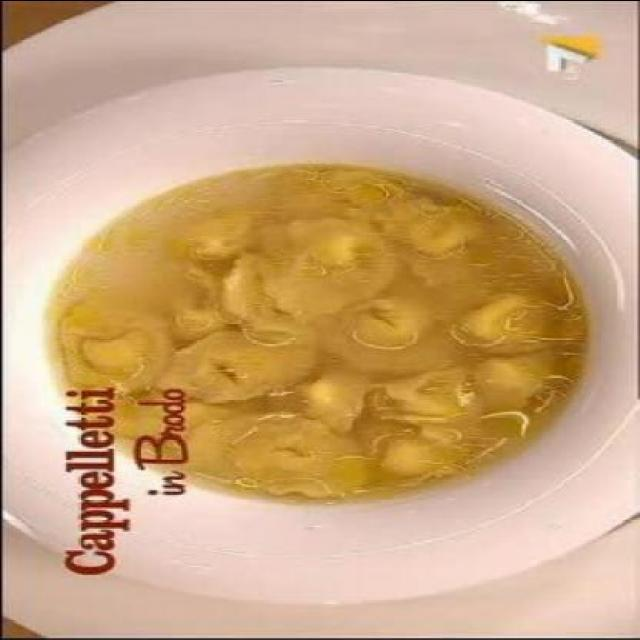Tortellini in broth: (210, 144, 553, 492)
